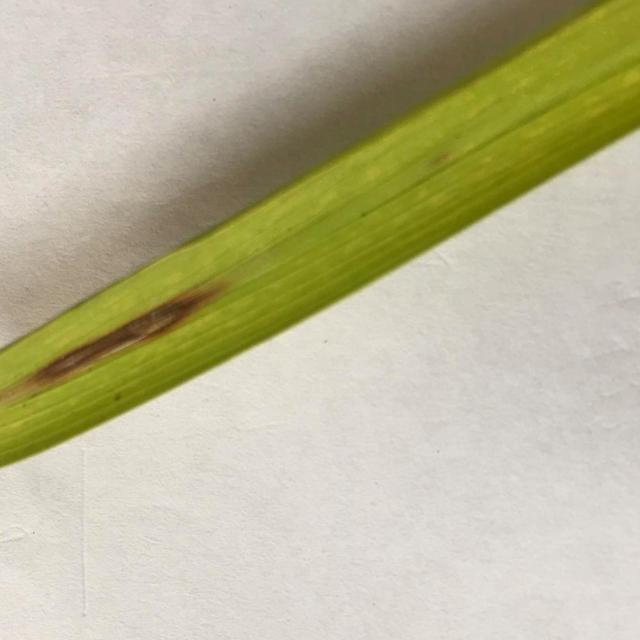Leaf blast: (0, 0, 640, 505)
